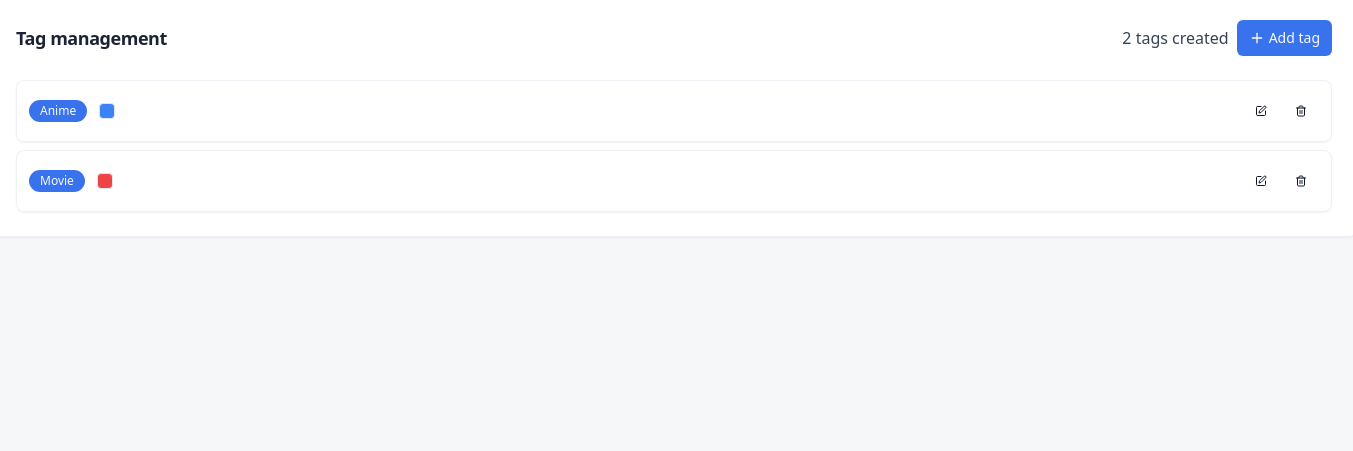
Test: TagManager › shows duplicate add errors inline instead of using browser alerts
This screenshot has width=1353, height=451.
Click the button "Add tag" at (1284, 38), box [1237,20,1332,56]
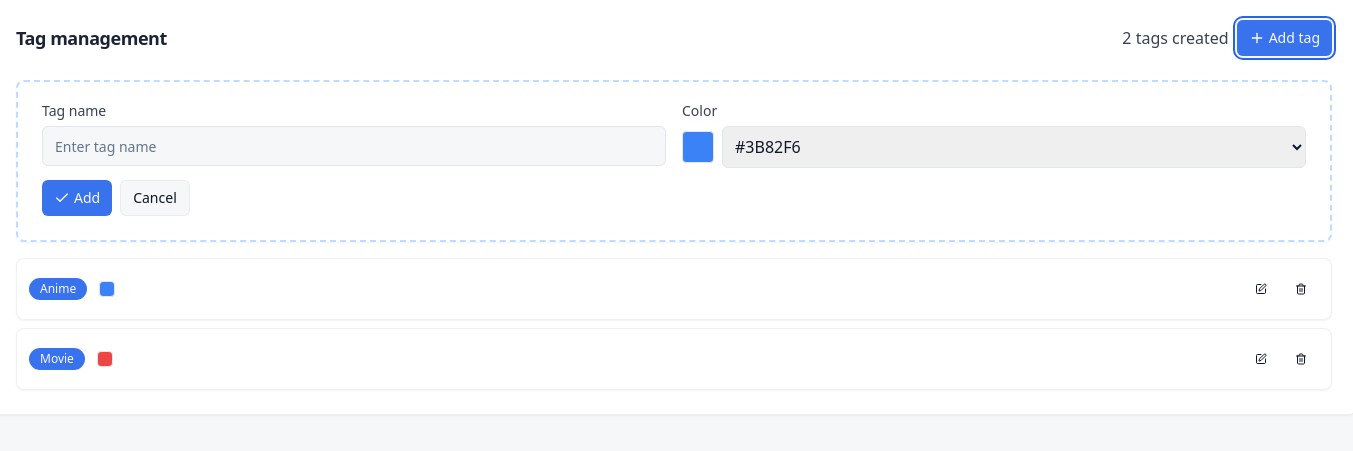
Type "anime" into the field labelled "Tag name" at (354, 146), box [42,126,666,166]
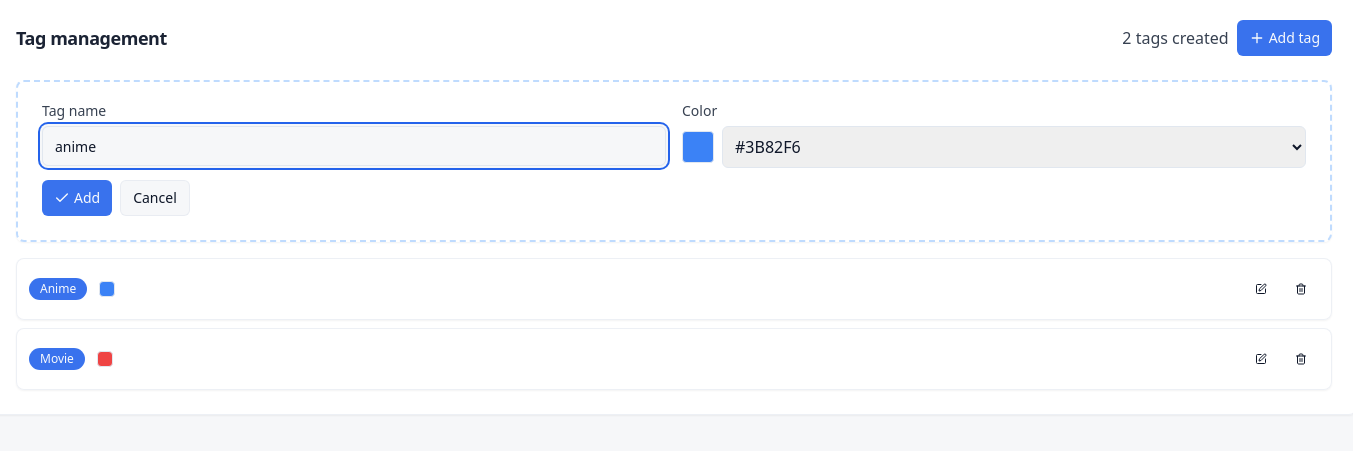
Click the button "Add" at (77, 198), box [42,180,112,216]
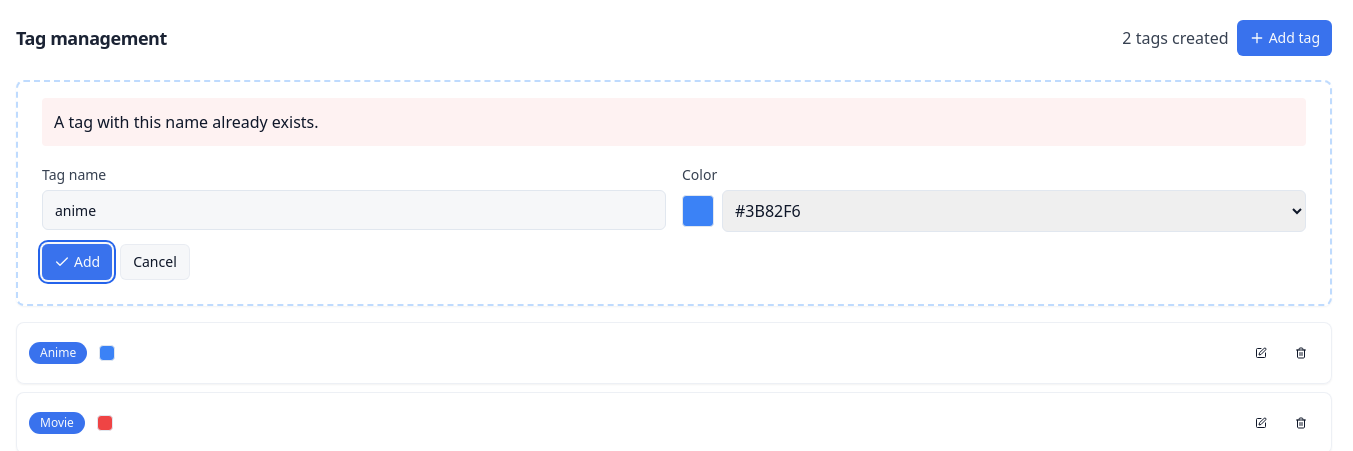
Expected: the message reads "A tag with this name already exists.", [54,111,318,133]
